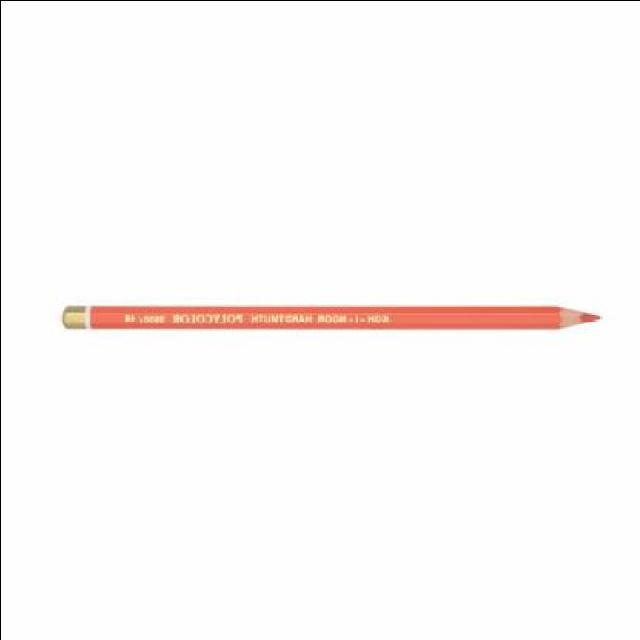pencil: (542, 298, 606, 340)
